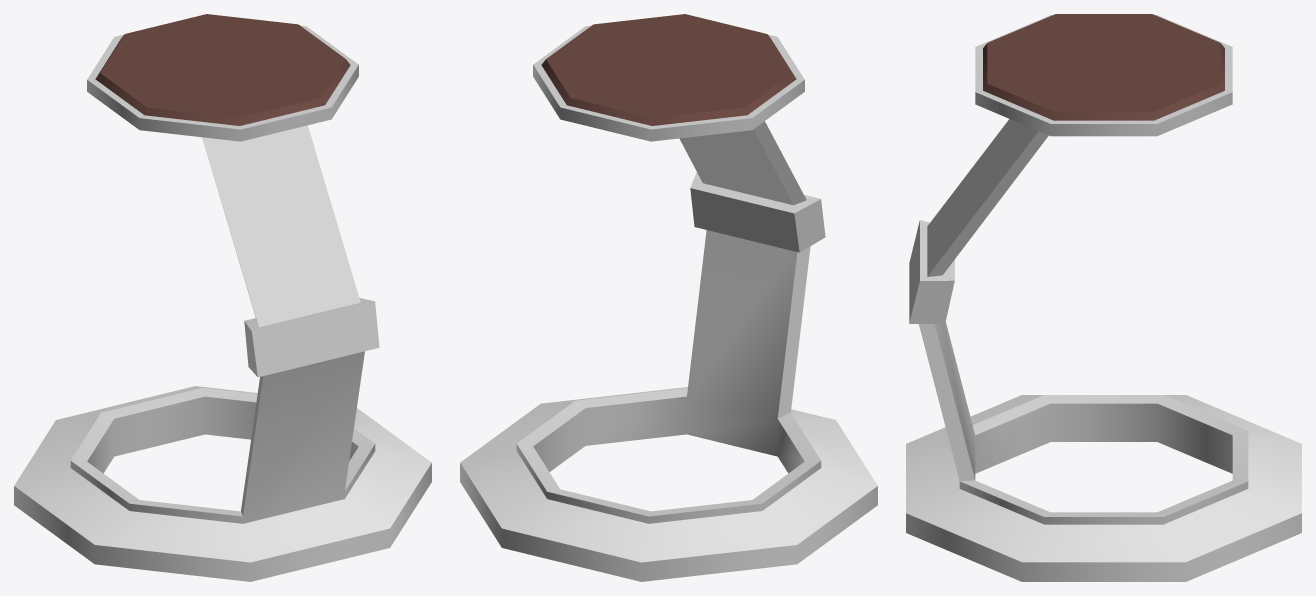
Rendered from SM_Seat_Spin_001.fbx.
3 views of the same model, side by side, from view 1: azimuth 30°, elevation 25°; view 2: azimuth 150°, elevation 25°; view 3: azimuth 270°, elevation 25° (orthographic).
Parts seen in each view (by area): view 1: SM_Seat_Spin, SM_SpinSeat_001; view 2: SM_Seat_Spin, SM_SpinSeat_001; view 3: SM_Seat_Spin, SM_SpinSeat_001.
Part boxes in pixels (left/top/right/bottom): SM_Seat_Spin: left=70, top=14, right=379, bottom=523; SM_SpinSeat_001: left=14, top=386, right=431, bottom=581; SM_Seat_Spin: left=516, top=14, right=825, bottom=523; SM_SpinSeat_001: left=460, top=387, right=877, bottom=581; SM_Seat_Spin: left=909, top=14, right=1248, bottom=524; SM_SpinSeat_001: left=906, top=395, right=1301, bottom=581.
Bounding box in the file's own units: 0.5984 × 0.7255 × 0.5984.
